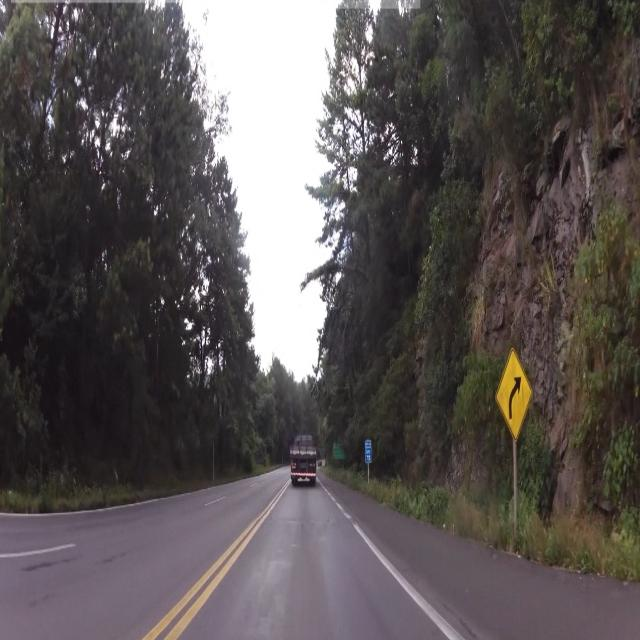A-2b: (496, 345, 530, 439)
